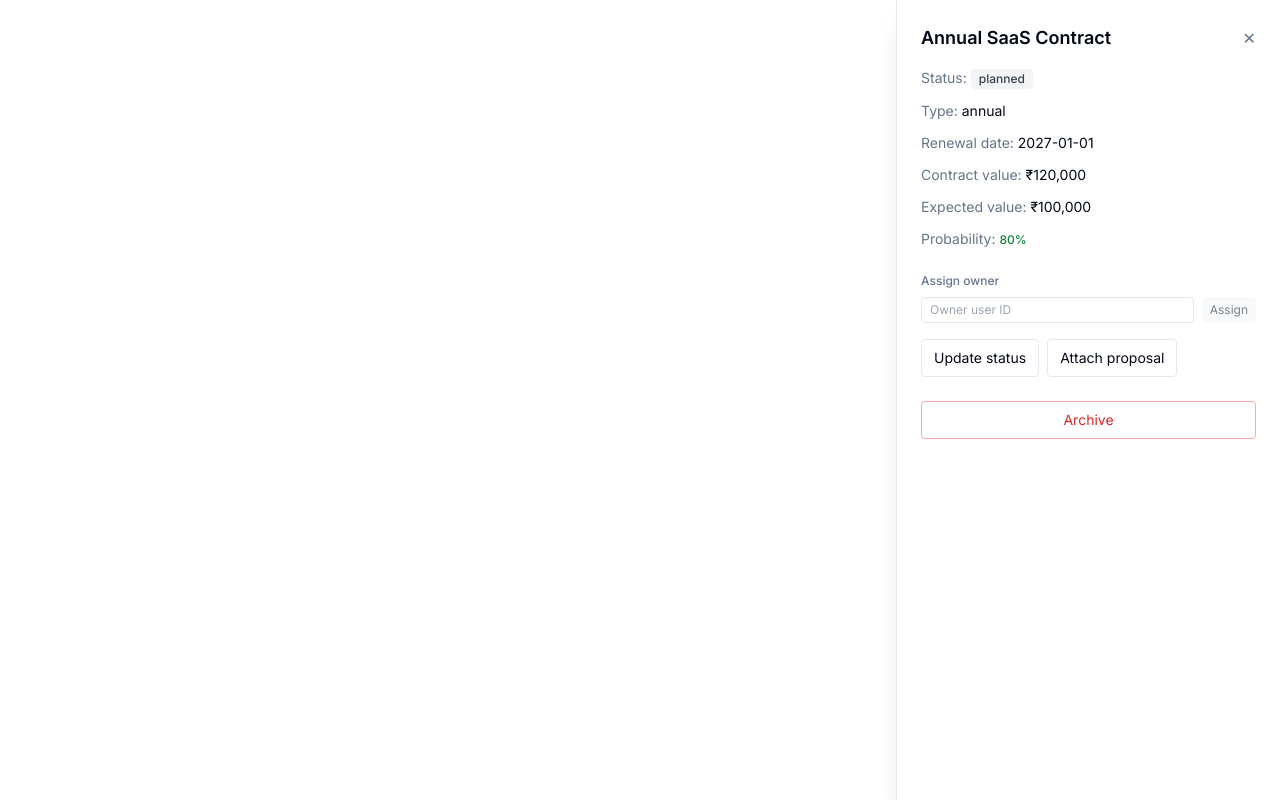
Scenario: RenewalDrawer › shows status update dialog when button clicked
Click the button with test id "update-status-btn": point(980, 358) [921,339,1039,377]
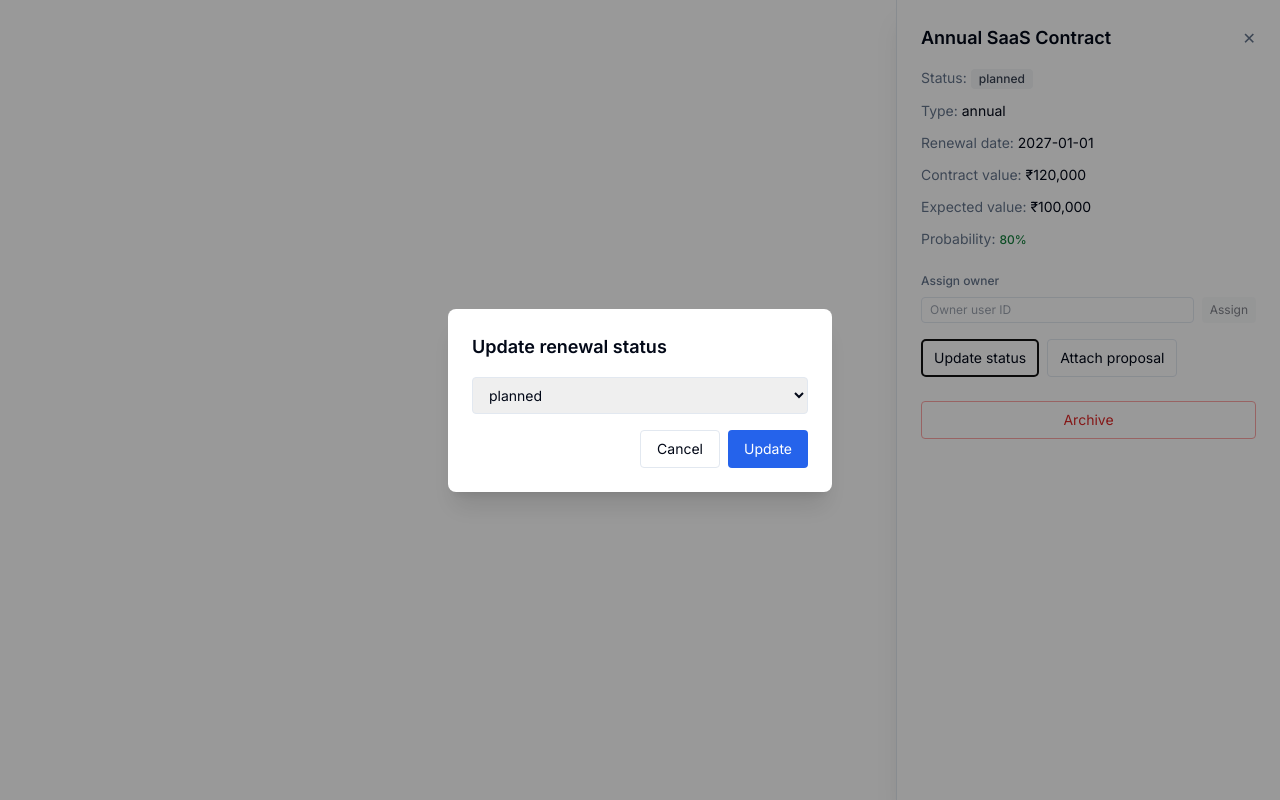
Result: the element with test id "status-update-dialog" is shown
